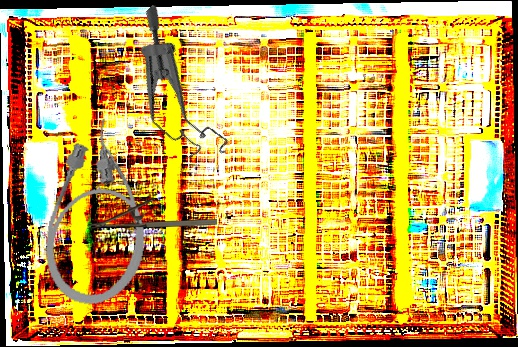Cannula: (35, 112, 167, 314)
Needle Holder: (87, 198, 217, 229)
Speculum: (90, 2, 269, 176)
